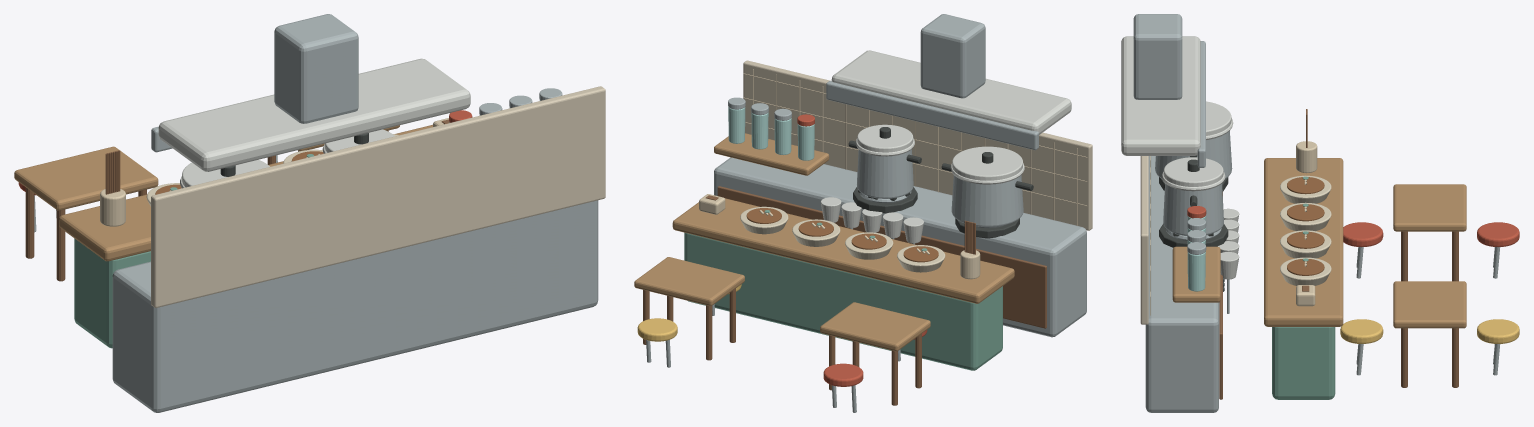
File: xiaoling_noodles.glb
3 views of the same model, side by side, from view 1: azimuth 30°, elevation 25°; view 2: azimuth 150°, elevation 25°; view 3: azimuth 270°, elevation 25° (orthographic). The views are drawn at different scales.
Parts seen in each view (by area): view 1: 后厨 · 贴墙操作台, 后厨 · 防油瓷砖, 抽油烟机 · 挡烟罩, 抽油烟机 · 烟道, 双人小餐桌, 出餐台 · 木边台面, 出餐台 · 绿色柜体, 牛骨高汤大锅 锅盖, 筷笼陶罐, 餐桌腿.001, 餐桌腿, 米线汆烫锅 锅盖; view 2: 出餐台 · 绿色柜体, 后厨 · 防油瓷砖, 后厨 · 贴墙操作台, 出餐台 · 木边台面, 抽油烟机 · 挡烟罩, 后厨 · 旧木饰面, 抽油烟机 · 烟道, 抽油烟机 · 前沿, 双人小餐桌, 双人小餐桌.001, 牛骨高汤大锅 锅身, 米线汆烫锅 锅身 (+25 smaller); view 3: 后厨 · 贴墙操作台, 出餐台 · 木边台面, 抽油烟机 · 挡烟罩, 出餐台 · 绿色柜体, 抽油烟机 · 烟道, 双人小餐桌, 双人小餐桌.001, 米线汆烫锅 锅身, 调料架层板, 后厨 · 防油瓷砖, 米线汆烫锅 锅盖, 牛骨高汤大锅 锅身 (+22 smaller).
Part boxes in pixels (x1=…): 后厨 · 贴墙操作台: x1=112, y1=200, x2=598, y2=412; 后厨 · 防油瓷砖: x1=151, y1=86, x2=605, y2=307; 抽油烟机 · 挡烟罩: x1=158, y1=58, x2=470, y2=171; 抽油烟机 · 烟道: x1=274, y1=14, x2=358, y2=123; 双人小餐桌: x1=14, y1=146, x2=158, y2=210; 出餐台 · 木边台面: x1=59, y1=124, x2=432, y2=261; 出餐台 · 绿色柜体: x1=74, y1=238, x2=150, y2=348; 牛骨高汤大锅 锅盖: x1=182, y1=159, x2=269, y2=187; 筷笼陶罐: x1=100, y1=189, x2=125, y2=226; 餐桌腿.001: x1=25, y1=187, x2=34, y2=258; 餐桌腿: x1=56, y1=209, x2=65, y2=281; 米线汆烫锅 锅盖: x1=325, y1=129, x2=394, y2=152; 出餐台 · 绿色柜体: x1=684, y1=232, x2=1002, y2=370; 后厨 · 防油瓷砖: x1=743, y1=60, x2=1092, y2=230; 后厨 · 贴墙操作台: x1=714, y1=157, x2=1086, y2=337; 出餐台 · 木边台面: x1=672, y1=198, x2=1014, y2=303; 抽油烟机 · 挡烟罩: x1=831, y1=50, x2=1071, y2=134; 后厨 · 旧木饰面: x1=717, y1=186, x2=1046, y2=328; 抽油烟机 · 烟道: x1=920, y1=14, x2=985, y2=98; 抽油烟机 · 前沿: x1=826, y1=81, x2=1038, y2=150; 双人小餐桌: x1=820, y1=302, x2=930, y2=351; 双人小餐桌.001: x1=634, y1=257, x2=744, y2=305; 牛骨高汤大锅 锅身: x1=951, y1=175, x2=1023, y2=226; 米线汆烫锅 锅身: x1=857, y1=149, x2=913, y2=198; 后厨 · 贴墙操作台: x1=1145, y1=156, x2=1218, y2=412; 出餐台 · 木边台面: x1=1264, y1=158, x2=1343, y2=326; 抽油烟机 · 挡烟罩: x1=1121, y1=36, x2=1200, y2=155; 出餐台 · 绿色柜体: x1=1272, y1=327, x2=1335, y2=399; 抽油烟机 · 烟道: x1=1133, y1=14, x2=1182, y2=99; 双人小餐桌: x1=1393, y1=184, x2=1466, y2=231; 双人小餐桌.001: x1=1393, y1=281, x2=1466, y2=328; 米线汆烫锅 锅身: x1=1163, y1=183, x2=1223, y2=235; 调料架层板: x1=1172, y1=246, x2=1220, y2=302; 后厨 · 防油瓷砖: x1=1140, y1=156, x2=1148, y2=324; 米线汆烫锅 锅盖: x1=1163, y1=157, x2=1223, y2=186; 牛骨高汤大锅 锅身: x1=1155, y1=131, x2=1232, y2=178.
Size of the model in its own units: 4.2 by 3.03 by 3.91.
